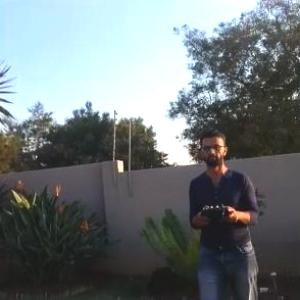follow: (185, 116, 263, 299)
